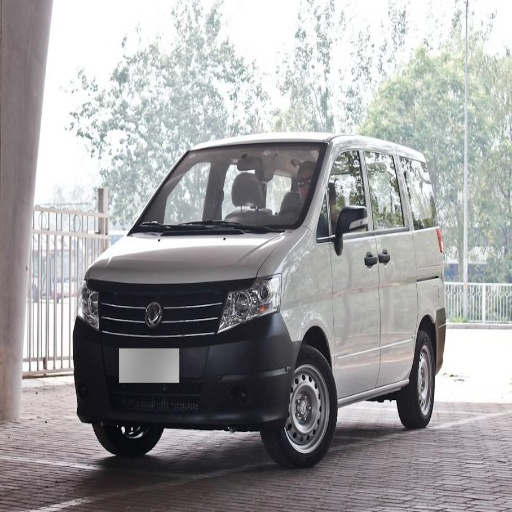front_bumper: (72, 277, 300, 431)
front_glass: (128, 143, 327, 234)
front_left_door: (317, 143, 382, 394)
